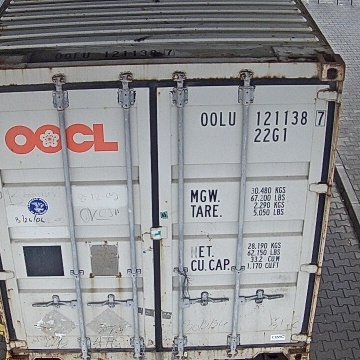serial_id: (199, 111, 325, 125)
